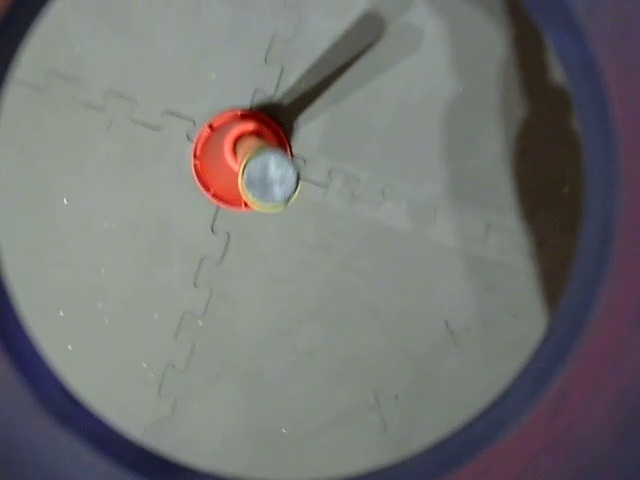tip: (234, 136, 305, 216)
